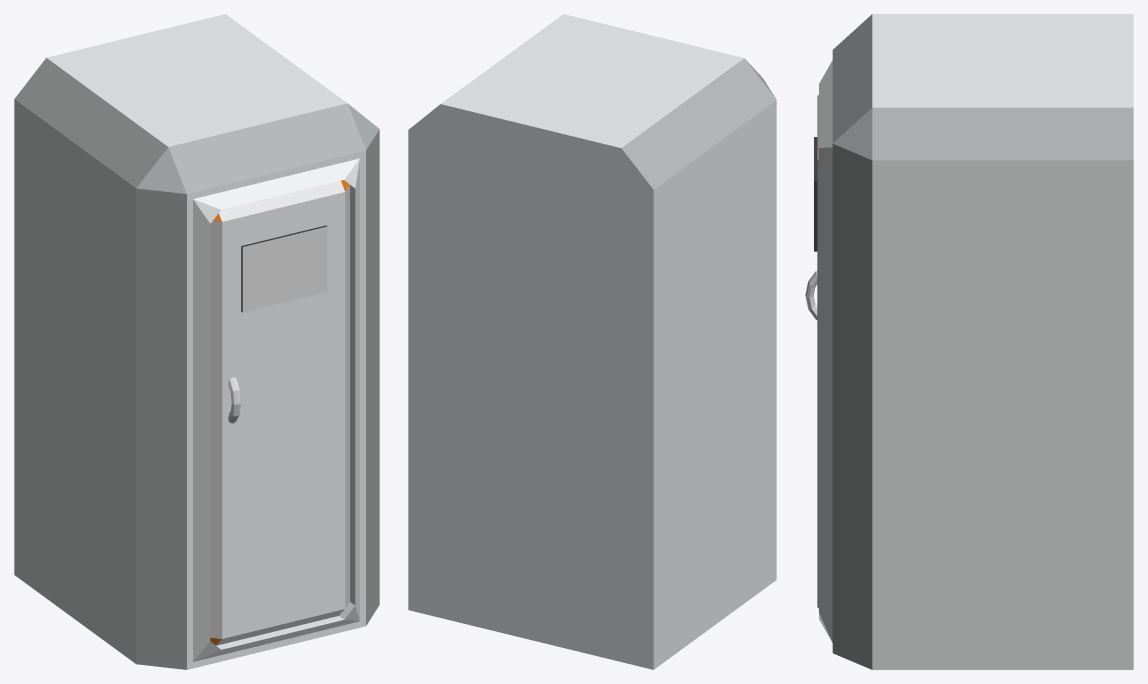
Rendered from Technology-Room-Cabin.fbx.
3 renders of one model, left to right at view 1: azimuth 30°, elevation 25°; view 2: azimuth 150°, elevation 25°; view 3: azimuth 270°, elevation 25°, orthographic. The views are drawn at different scales.
Parts seen in each view (by area): view 1: Technology-Room-Cabin; view 2: Technology-Room-Cabin; view 3: Technology-Room-Cabin.
Boxes of the visible parts, <box> form: Technology-Room-Cabin: <box>14,14,379,669</box>; Technology-Room-Cabin: <box>408,14,776,669</box>; Technology-Room-Cabin: <box>805,14,1133,669</box>.
Bounding box in the file's own units: 1.23 × 2.46 × 1.34.
